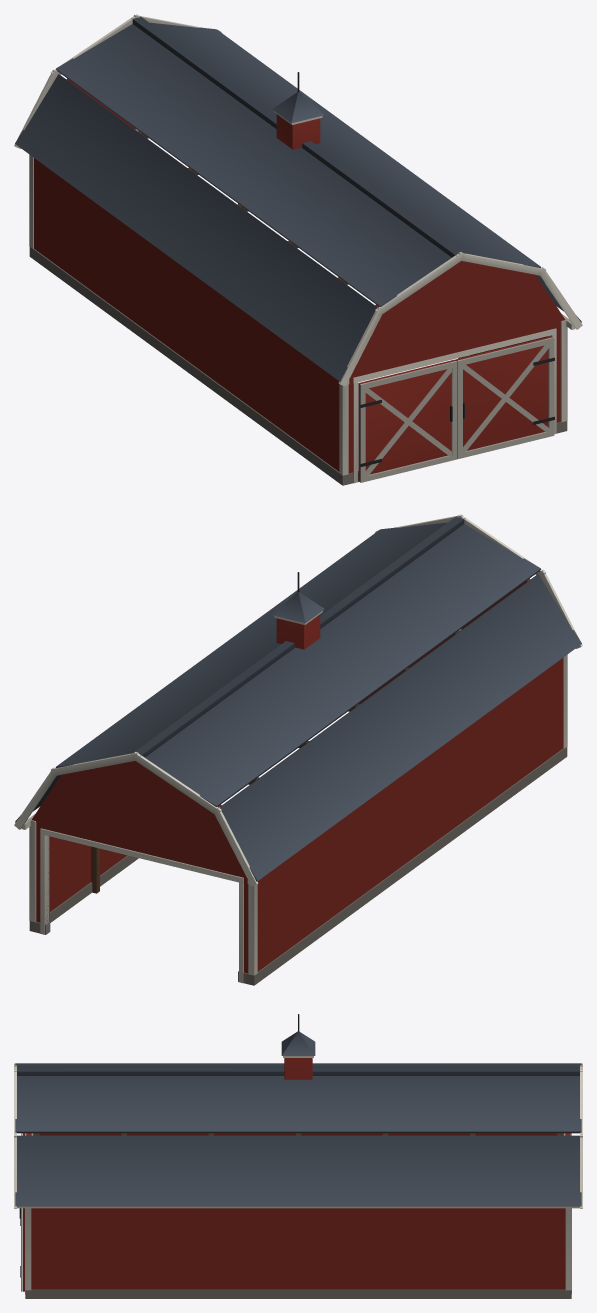
Rendered from prop.barn.lod1.glb.
The picture shows the model from 3 angles, top to bottom: view 1: azimuth 30°, elevation 25°; view 2: azimuth 150°, elevation 25°; view 3: azimuth 270°, elevation 25°; orthographic projection. The views are drawn at different scales.
Visible parts, largest first — view 1: barn, door_r, door_l; view 2: barn; view 3: barn, door_l.
Boxes of the visible parts, <box> form: barn: <box>14,14,582,485</box>; door_r: <box>358,359,457,482</box>; door_l: <box>455,336,554,458</box>; barn: <box>14,514,582,985</box>; barn: <box>14,1014,582,1298</box>; door_l: <box>19,1208,24,1291</box>.
Bounding box in the file's own units: 13.76 × 14.7 × 32.
